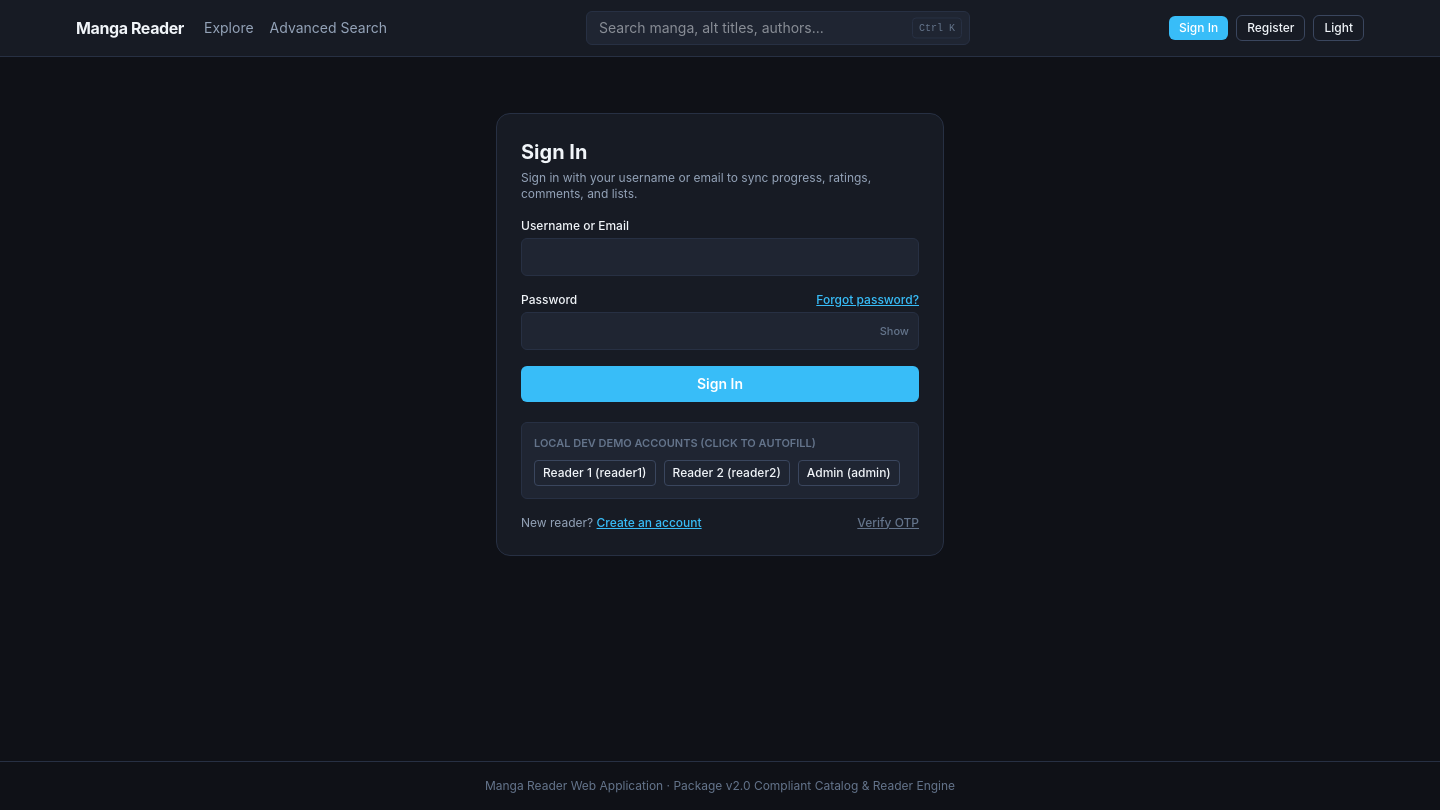
Test case: Manga Reader Frontend Application › renders login screen with local dev demo autofill buttons
The image size is (1440, 810).
expect the heading "Sign In" is shown: met, box [521,140,587,164]
What coordinates should you click on to do the following:
click the button "Reader 1 (reader1)"
I would click on:
 (595, 472)
Its box is [534,460,656,486].
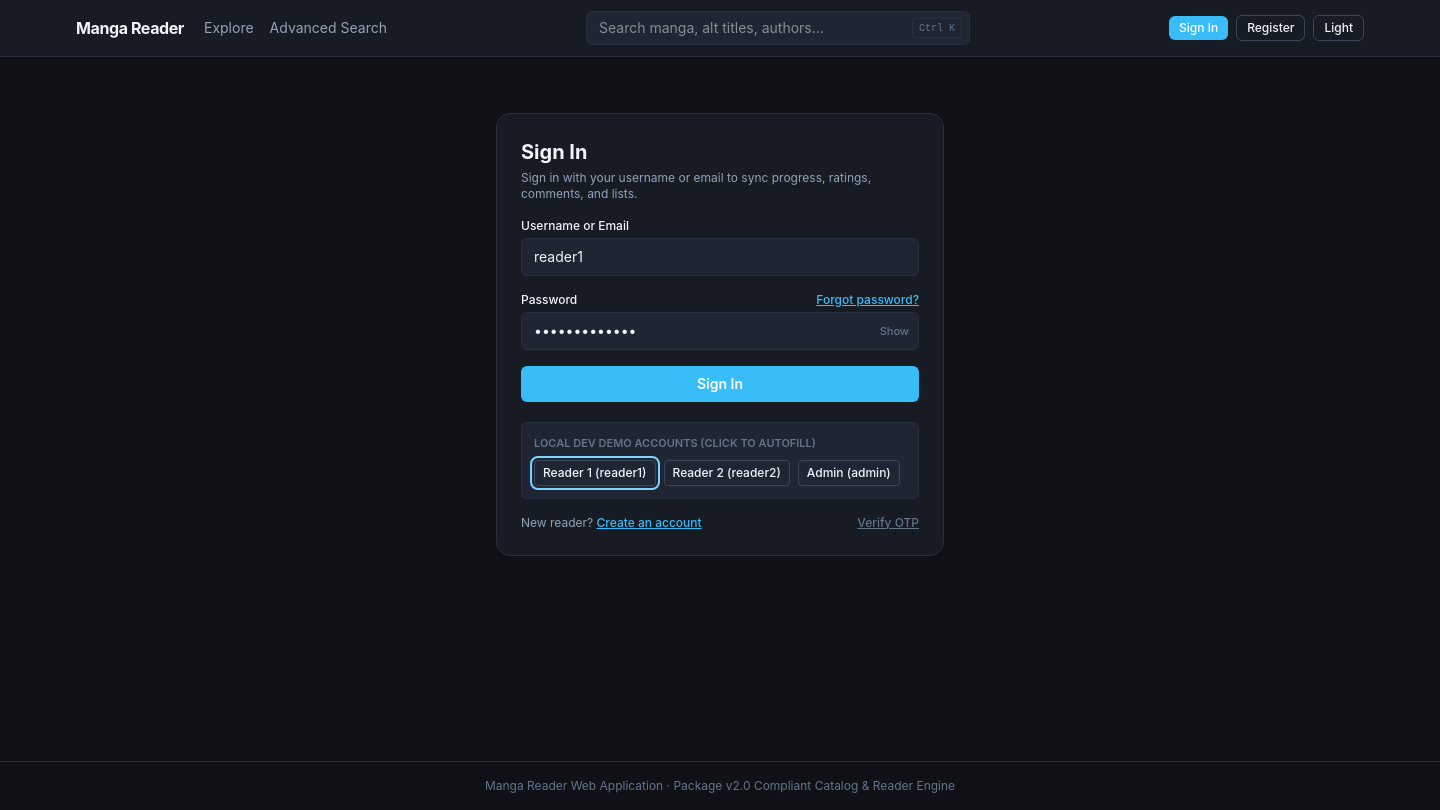
expect the field labelled "Username or Email" holds "reader1": met, box [521,238,919,276]
